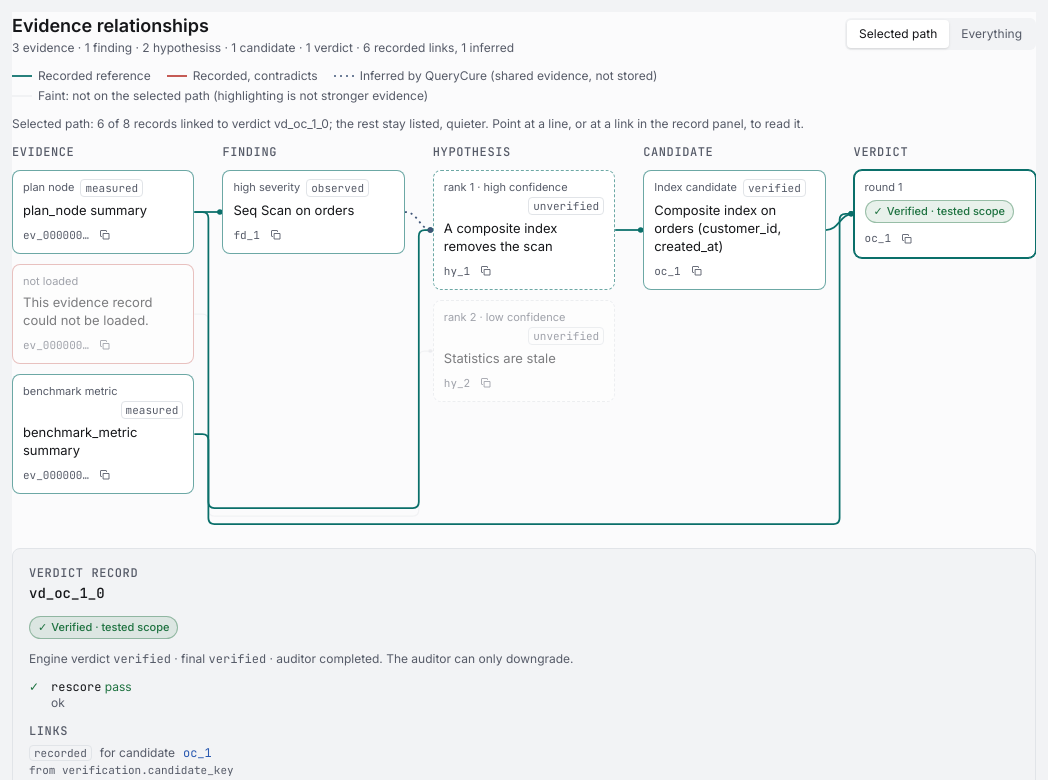
Scenario: a candidate's record labels its prediction as not measured
Step 1. Click the button with aria-label "Candidate oc_1" → (734, 215), box [644,171,825,259]
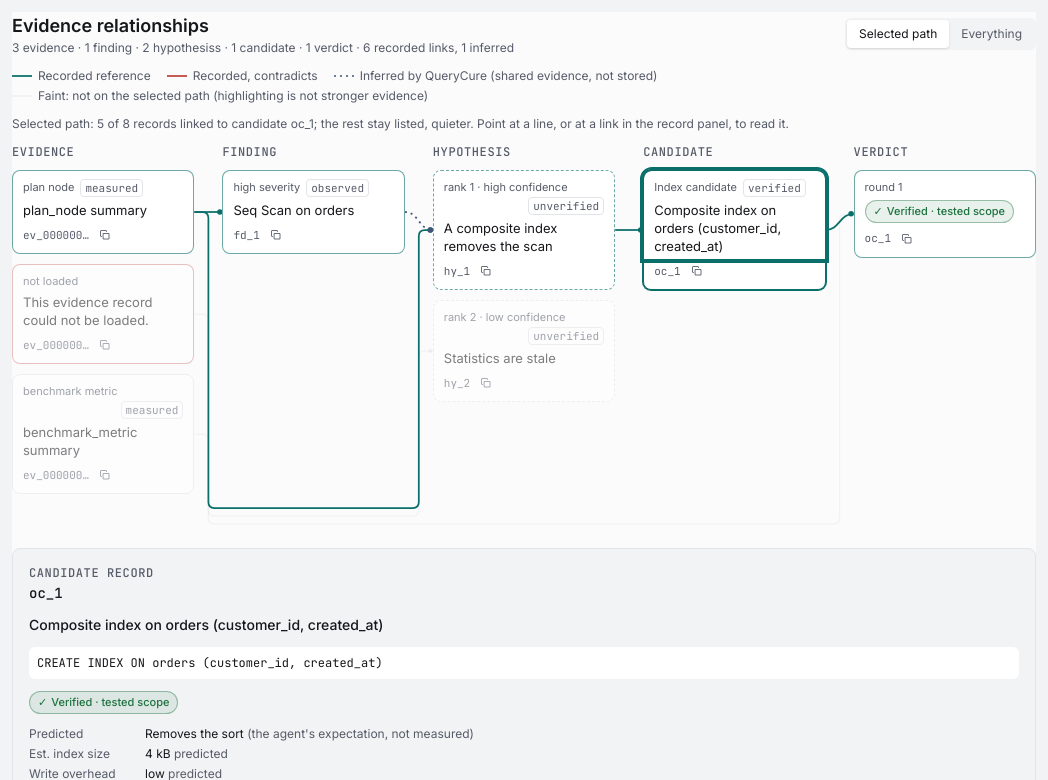
Now the text "(the agent's expectation, not measured)" is shown, box [247,726,474,740]
Now the text "predicted" is shown 2 times, box [174,746,228,760]; [168,766,222,779]
